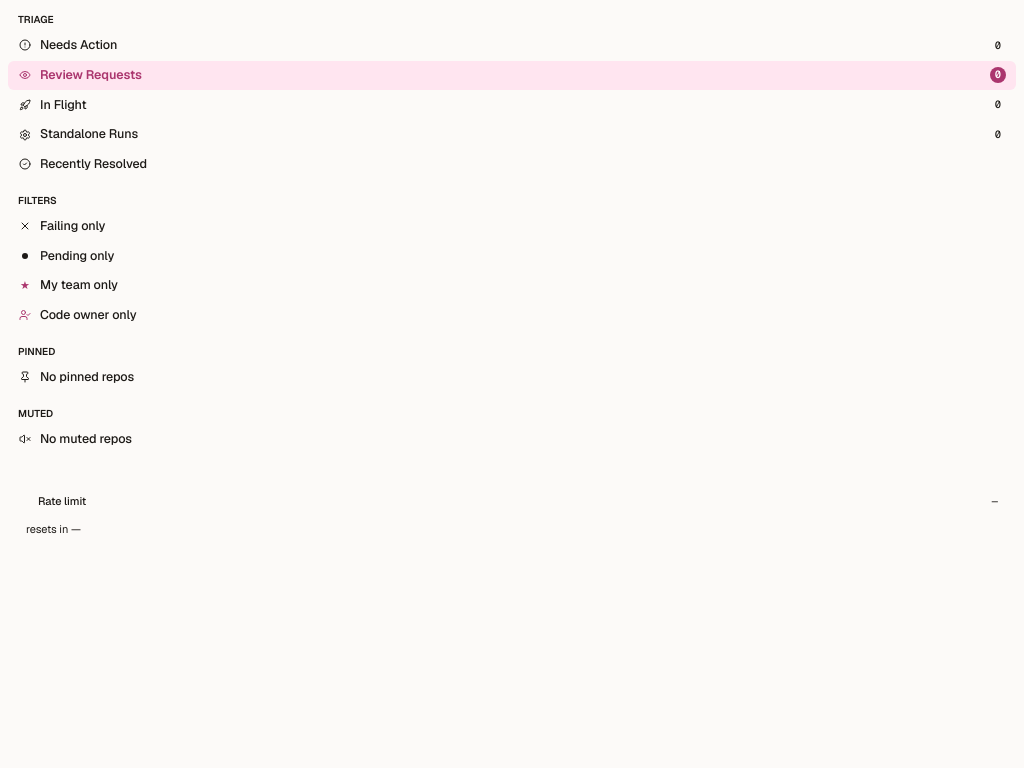
Test case: Sidebar › Code owner only toggles without needing teams configured
Click the button "Code owner only" at [88, 314], box [8,301,1016,330]
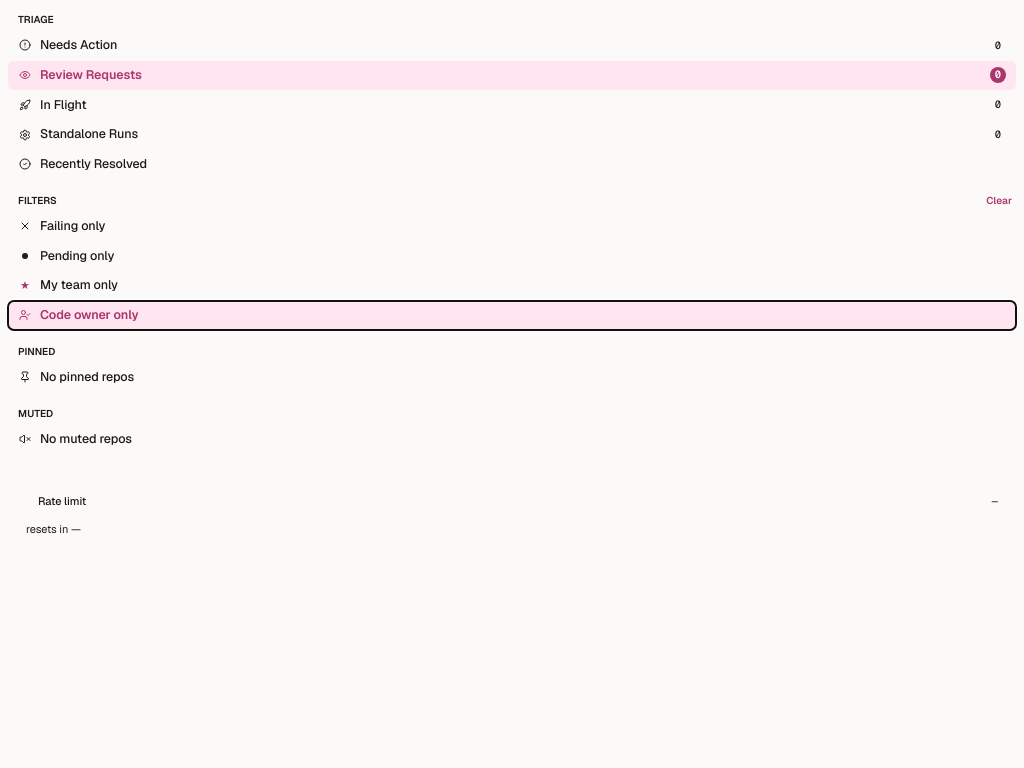
Expected: the button with aria-label "Clear filters" is shown, [986,193,1012,208]
